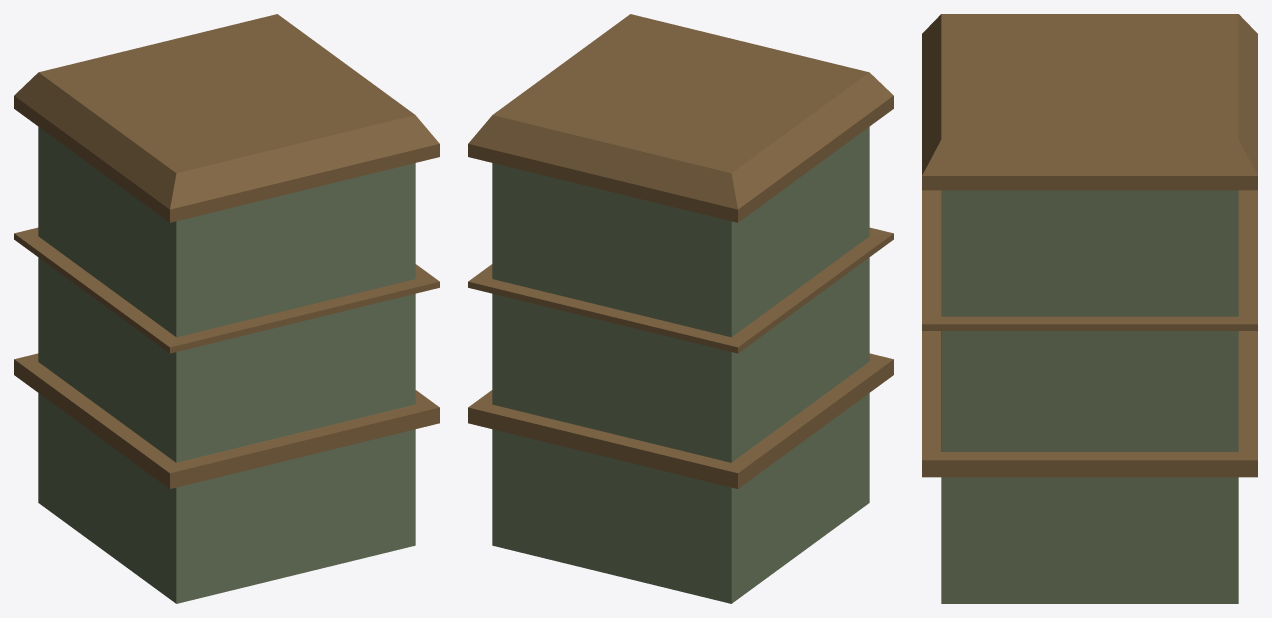
The model's file is Casa modelo 3.fbx.
3 renders of one model, left to right at view 1: azimuth 30°, elevation 25°; view 2: azimuth 150°, elevation 25°; view 3: azimuth 270°, elevation 25°, orthographic. The views are drawn at different scales.
Parts seen in each view (by area): view 1: pCube1; view 2: pCube1; view 3: pCube1.
Boxes of the visible parts, bbox=[...] form: pCube1: bbox=[14, 14, 439, 603]; pCube1: bbox=[468, 14, 893, 603]; pCube1: bbox=[922, 14, 1257, 603].
Size of the model in its own units: 14.93 by 22.76 by 14.93.
